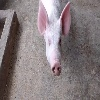heo: (36, 1, 73, 77)
